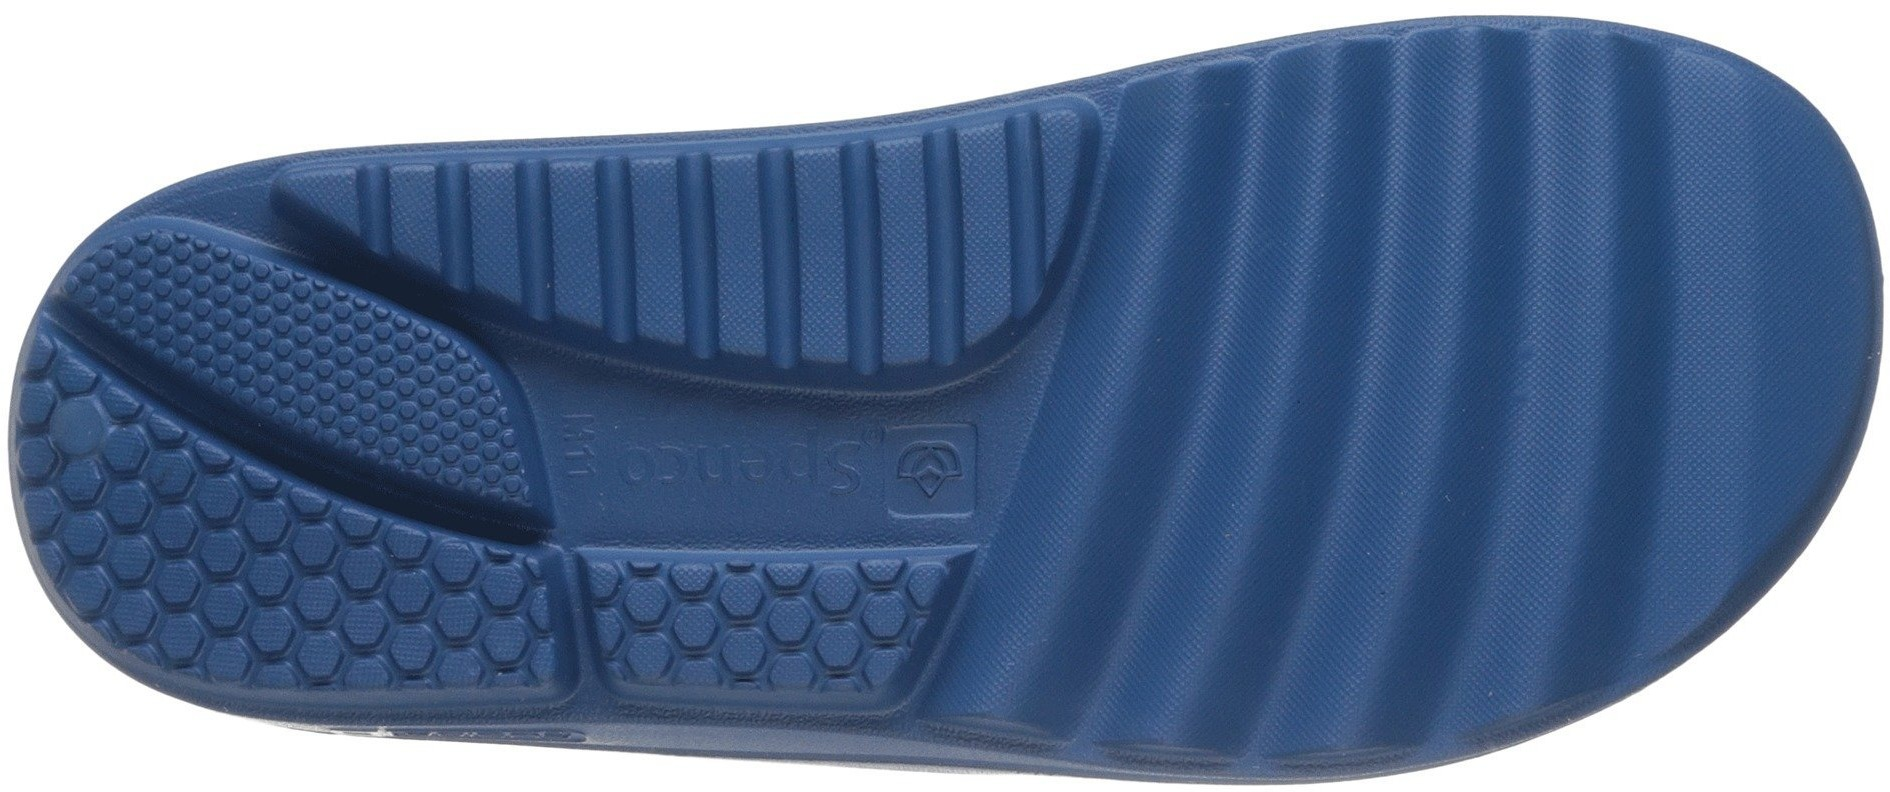line: (927, 34, 1876, 769)
other: (1122, 80, 1706, 643)
polygon: (589, 555, 951, 685), (283, 533, 448, 688), (765, 557, 900, 687), (642, 565, 759, 677)
quad: (790, 123, 1016, 352), (633, 156, 770, 289), (466, 164, 604, 291), (875, 420, 986, 524), (879, 420, 982, 521)
text: (612, 424, 874, 505), (730, 405, 867, 529), (614, 405, 738, 527), (530, 405, 618, 491), (556, 404, 609, 489)
